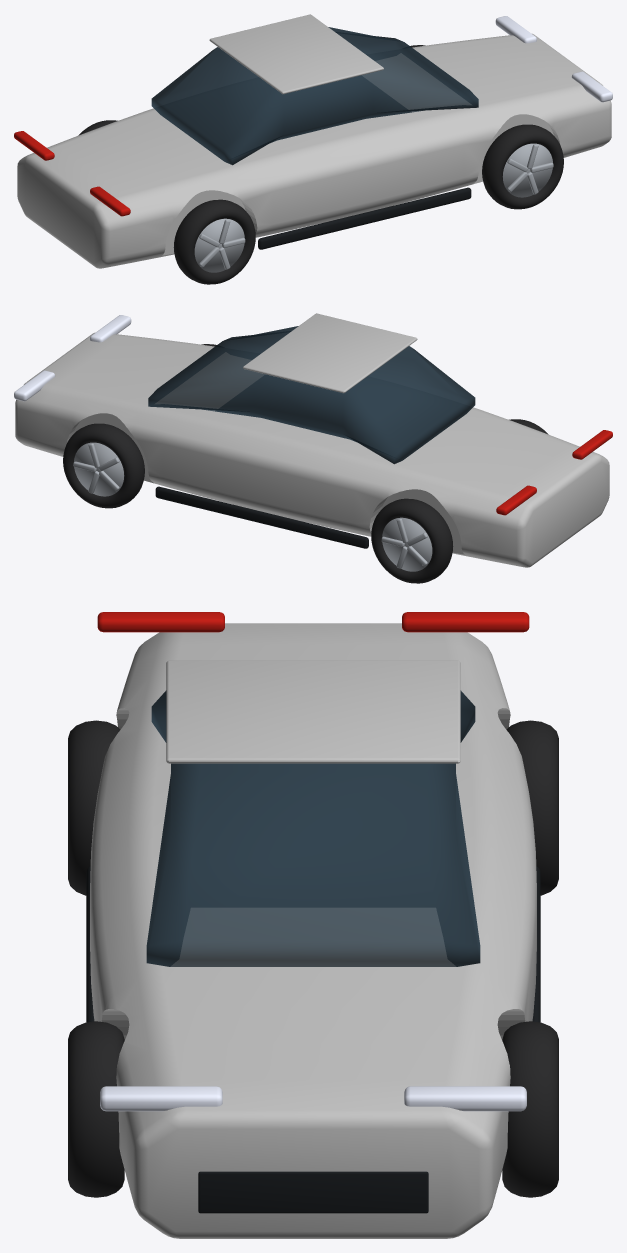
File: vehicle.glb
3 views of the same model, one above another, from view 1: azimuth 30°, elevation 25°; view 2: azimuth 150°, elevation 25°; view 3: azimuth 270°, elevation 25° (orthographic). The views are drawn at different scales.
Visible parts, largest first — view 1: chassis, cabin_glass, roof, wheel_rear_left, wheel_front_left, side_sill_-1, wheel_front_left_rim, wheel_rear_left_rim, front_lamp_-1, front_lamp_1, rear_lamp_-1, rear_lamp_1; view 2: chassis, cabin_glass, roof, wheel_rear_right, wheel_front_right, side_sill_1, wheel_front_right_rim, wheel_rear_right_rim, front_lamp_1, front_lamp_-1, rear_lamp_1, rear_lamp_-1; view 3: chassis, cabin_glass, roof, front_grille, wheel_front_left, wheel_front_right, wheel_rear_left, wheel_rear_right, front_lamp_-1, front_lamp_1, rear_lamp_-1, rear_lamp_1.
Part boxes in pixels (bbox=[...]): chassis: bbox=[17, 33, 611, 268]; cabin_glass: bbox=[151, 27, 478, 165]; roof: bbox=[209, 14, 383, 94]; wheel_rear_left: bbox=[173, 199, 255, 284]; wheel_front_left: bbox=[482, 124, 563, 209]; side_sill_-1: bbox=[258, 187, 471, 249]; wheel_front_left_rim: bbox=[502, 143, 552, 197]; wheel_rear_left_rim: bbox=[194, 218, 244, 272]; front_lamp_-1: bbox=[571, 71, 612, 102]; front_lamp_1: bbox=[495, 16, 536, 43]; rear_lamp_-1: bbox=[90, 186, 130, 216]; rear_lamp_1: bbox=[14, 131, 54, 160]; chassis: bbox=[15, 332, 609, 567]; cabin_glass: bbox=[148, 326, 475, 464]; roof: bbox=[243, 313, 417, 393]; wheel_rear_right: bbox=[371, 498, 453, 583]; wheel_front_right: bbox=[63, 423, 144, 508]; side_sill_1: bbox=[155, 486, 368, 548]; wheel_front_right_rim: bbox=[74, 442, 124, 496]; wheel_rear_right_rim: bbox=[382, 517, 432, 571]; front_lamp_1: bbox=[14, 370, 55, 401]; front_lamp_-1: bbox=[90, 315, 131, 342]; rear_lamp_1: bbox=[496, 485, 536, 515]; rear_lamp_-1: bbox=[572, 430, 612, 459]; chassis: bbox=[90, 623, 536, 1238]; cabin_glass: bbox=[146, 690, 480, 966]; roof: bbox=[166, 660, 460, 763]; front_grille: bbox=[198, 1171, 428, 1213]; wheel_front_left: bbox=[68, 1021, 124, 1197]; wheel_front_right: bbox=[502, 1021, 558, 1197]; wheel_rear_left: bbox=[68, 720, 120, 895]; wheel_rear_right: bbox=[506, 720, 558, 895]; front_lamp_-1: bbox=[100, 1086, 222, 1111]; front_lamp_1: bbox=[404, 1086, 526, 1111]; rear_lamp_-1: bbox=[97, 612, 224, 632]; rear_lamp_1: bbox=[402, 612, 529, 632].
Bounding box in the file's own units: 4.81 × 1.4 × 2.
